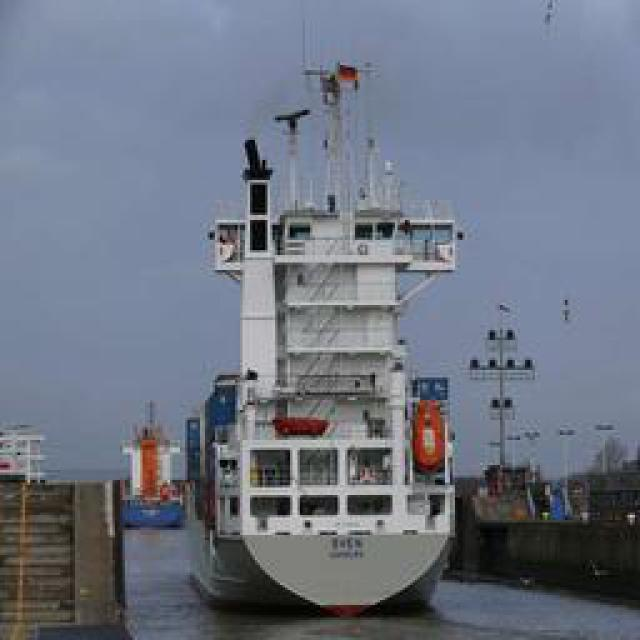Ship: (195, 280, 458, 613)
